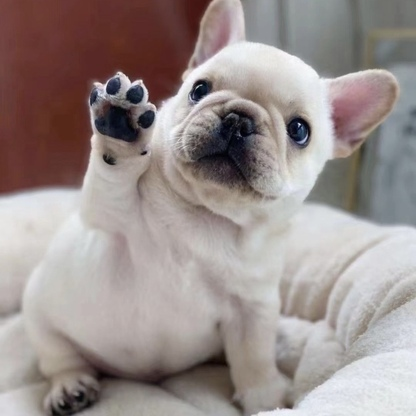bulldog: (20, 1, 400, 416)
